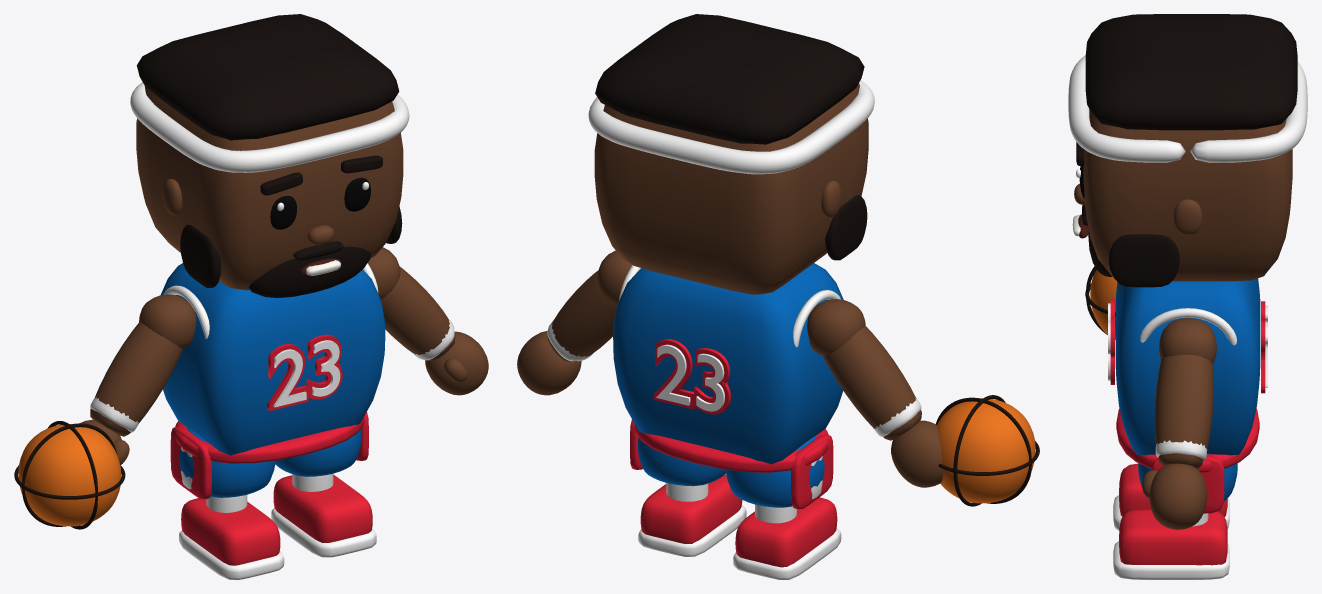
File: lebron.glb
The picture shows the model from 3 angles, left to right: view 1: azimuth 30°, elevation 25°; view 2: azimuth 150°, elevation 25°; view 3: azimuth 270°, elevation 25°; orthographic projection. The views are drawn at different scales.
Visible parts, largest first — view 1: LB_Head, LB_Torso, LB_Rock, LB_Arm_R, LB_Foot_R, LB_Foot_L, LB_Arm_L, LB_Leg_R, LB_Number, LB_Leg_L, LB_Hand_L; view 2: LB_Head, LB_Torso, LB_Rock, LB_Arm_R, LB_Foot_R, LB_Foot_L, LB_Arm_L, LB_Leg_R, LB_Number, LB_Leg_L, LB_Hand_R, LB_Hand_L; view 3: LB_Head, LB_Torso, LB_Arm_L, LB_Foot_L, LB_Hand_L, LB_Leg_L, LB_Foot_R, LB_Rock, LB_Number.
Boxes of the visible parts, bbox=[...] form: LB_Head: bbox=[130, 14, 409, 297]; LB_Torso: bbox=[161, 263, 385, 463]; LB_Rock: bbox=[14, 421, 125, 529]; LB_Arm_R: bbox=[90, 294, 196, 436]; LB_Foot_R: bbox=[179, 498, 284, 579]; LB_Foot_L: bbox=[271, 474, 376, 557]; LB_Arm_L: bbox=[368, 247, 455, 360]; LB_Leg_R: bbox=[170, 427, 275, 512]; LB_Number: bbox=[267, 334, 342, 411]; LB_Leg_L: bbox=[275, 412, 368, 491]; LB_Hand_L: bbox=[425, 331, 488, 395]; LB_Head: bbox=[588, 14, 874, 294]; LB_Torso: bbox=[613, 263, 843, 472]; LB_Rock: bbox=[936, 395, 1039, 506]; LB_Arm_R: bbox=[807, 299, 921, 440]; LB_Foot_R: bbox=[733, 497, 841, 579]; LB_Foot_L: bbox=[638, 474, 746, 556]; LB_Arm_L: bbox=[547, 250, 631, 361]; LB_Leg_R: bbox=[725, 435, 833, 523]; LB_Number: bbox=[653, 339, 730, 414]; LB_Leg_L: bbox=[630, 419, 725, 501]; LB_Hand_R: bbox=[891, 420, 942, 487]; LB_Hand_L: bbox=[517, 331, 581, 395]; LB_Head: bbox=[1068, 14, 1307, 287]; LB_Torso: bbox=[1115, 278, 1260, 472]; LB_Arm_L: bbox=[1154, 318, 1216, 469]; LB_Foot_L: bbox=[1113, 509, 1229, 579]; LB_Hand_L: bbox=[1142, 463, 1207, 529]; LB_Leg_L: bbox=[1138, 454, 1237, 526]; LB_Foot_R: bbox=[1113, 463, 1229, 530]; LB_Rock: bbox=[1085, 266, 1117, 339]; LB_Number: bbox=[1108, 299, 1267, 393].
Size of the model in its own units: 1.56 by 1.52 by 0.6583.
